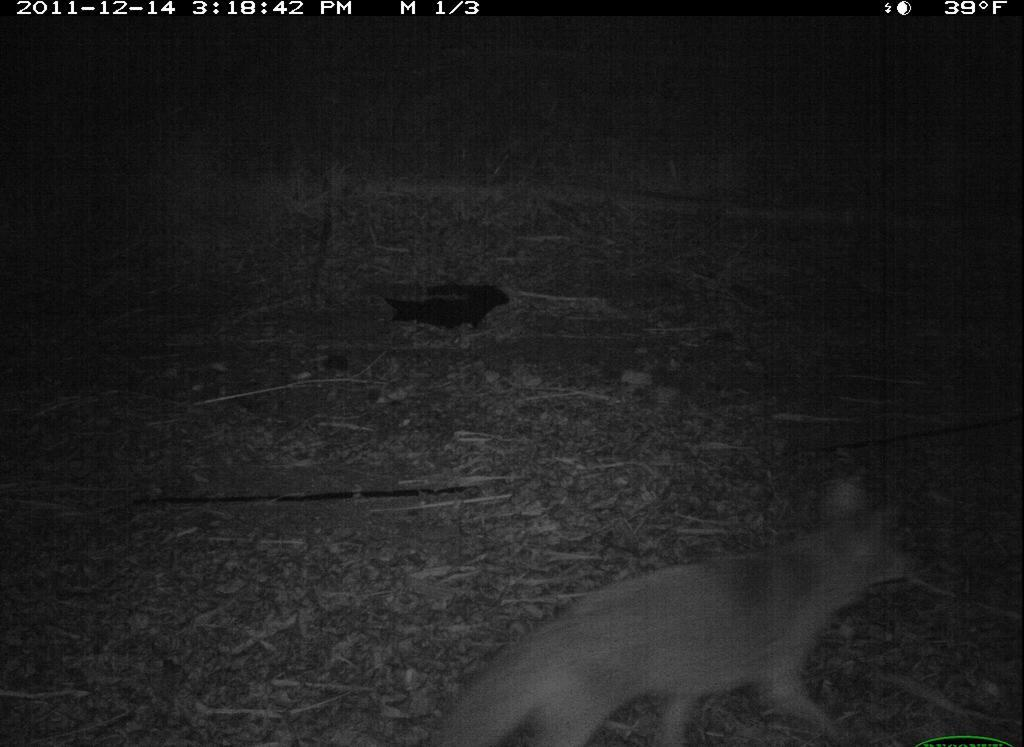coyote: (391, 469, 914, 745)
